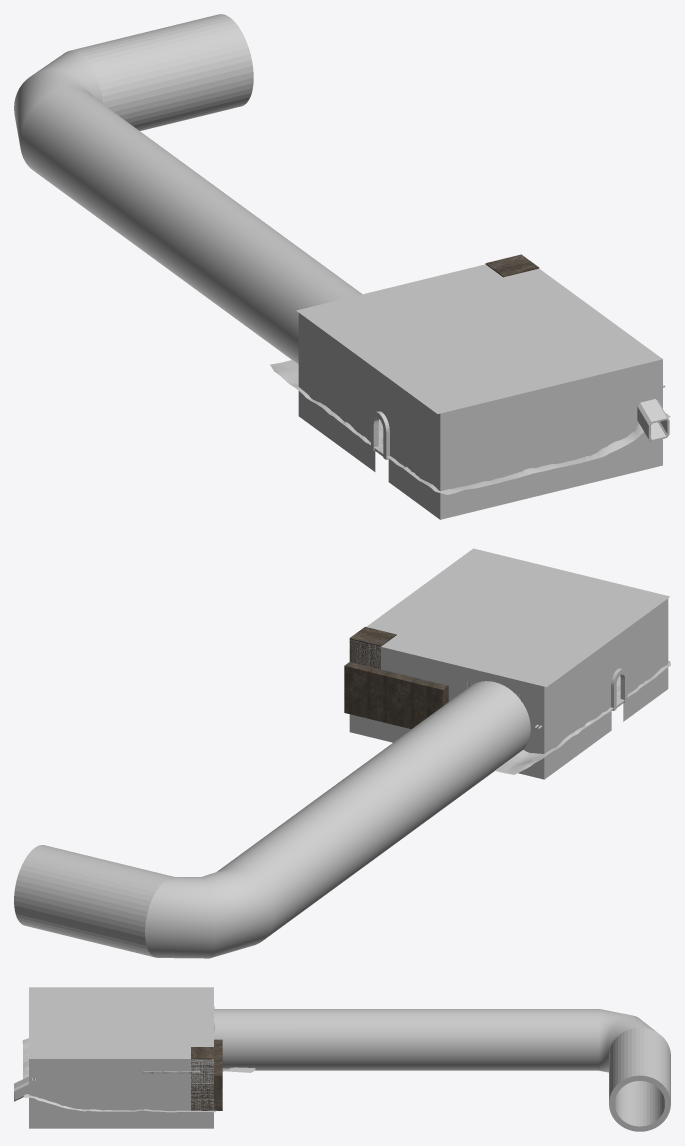
Rendered from tunnel03.fbx.
3 renders of one model, top to bottom at view 1: azimuth 30°, elevation 25°; view 2: azimuth 150°, elevation 25°; view 3: azimuth 270°, elevation 25°, orthographic. The views are drawn at different scales.
Visible parts, largest first — view 1: LODGroup_1_MainMesh_1_SubMesh_6, LODGroup_1_MainMesh_1_SubMesh_4, LODGroup_1_MainMesh_1_SubMesh_12, LODGroup_1_MainMesh_1_SubMesh_1; view 2: LODGroup_1_MainMesh_1_SubMesh_6, LODGroup_1_MainMesh_1_SubMesh_12, LODGroup_1_MainMesh_1_SubMesh_4, LODGroup_1_MainMesh_1_SubMesh_2, LODGroup_1_MainMesh_1_SubMesh_1; view 3: LODGroup_1_MainMesh_1_SubMesh_6, LODGroup_1_MainMesh_1_SubMesh_12, LODGroup_1_MainMesh_1_SubMesh_4, LODGroup_1_MainMesh_1_SubMesh_2, LODGroup_1_MainMesh_1_SubMesh_1.
Boxes of the visible parts, x1,y1,x2,y2 form: LODGroup_1_MainMesh_1_SubMesh_6: (14, 14, 669, 441); LODGroup_1_MainMesh_1_SubMesh_4: (298, 313, 662, 519); LODGroup_1_MainMesh_1_SubMesh_12: (296, 264, 662, 413); LODGroup_1_MainMesh_1_SubMesh_1: (270, 360, 670, 494); LODGroup_1_MainMesh_1_SubMesh_6: (14, 681, 530, 958); LODGroup_1_MainMesh_1_SubMesh_12: (366, 548, 670, 687); LODGroup_1_MainMesh_1_SubMesh_4: (349, 598, 668, 779); LODGroup_1_MainMesh_1_SubMesh_2: (344, 627, 448, 729); LODGroup_1_MainMesh_1_SubMesh_1: (495, 661, 670, 774); LODGroup_1_MainMesh_1_SubMesh_6: (14, 1009, 670, 1131); LODGroup_1_MainMesh_1_SubMesh_12: (29, 987, 213, 1058); LODGroup_1_MainMesh_1_SubMesh_4: (29, 1059, 213, 1128); LODGroup_1_MainMesh_1_SubMesh_2: (191, 1039, 222, 1110); LODGroup_1_MainMesh_1_SubMesh_1: (22, 1038, 255, 1112).
Bounding box in the file's own units: 5088 × 2060 × 16952.
